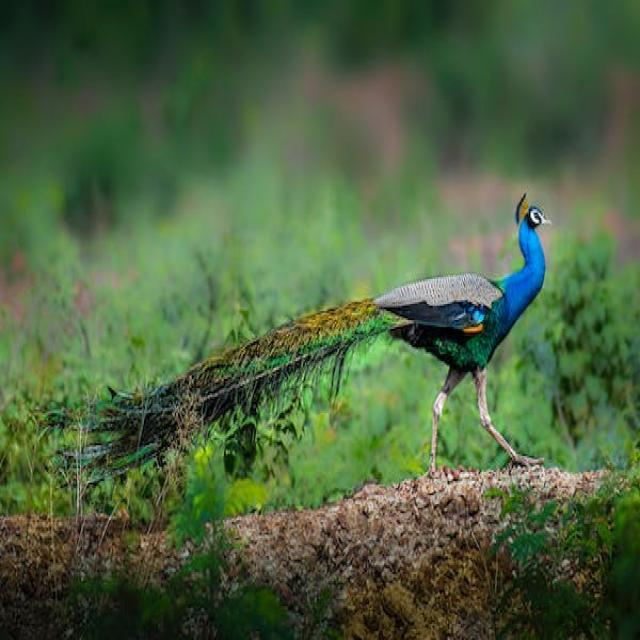peacock: (92, 195, 551, 490)
